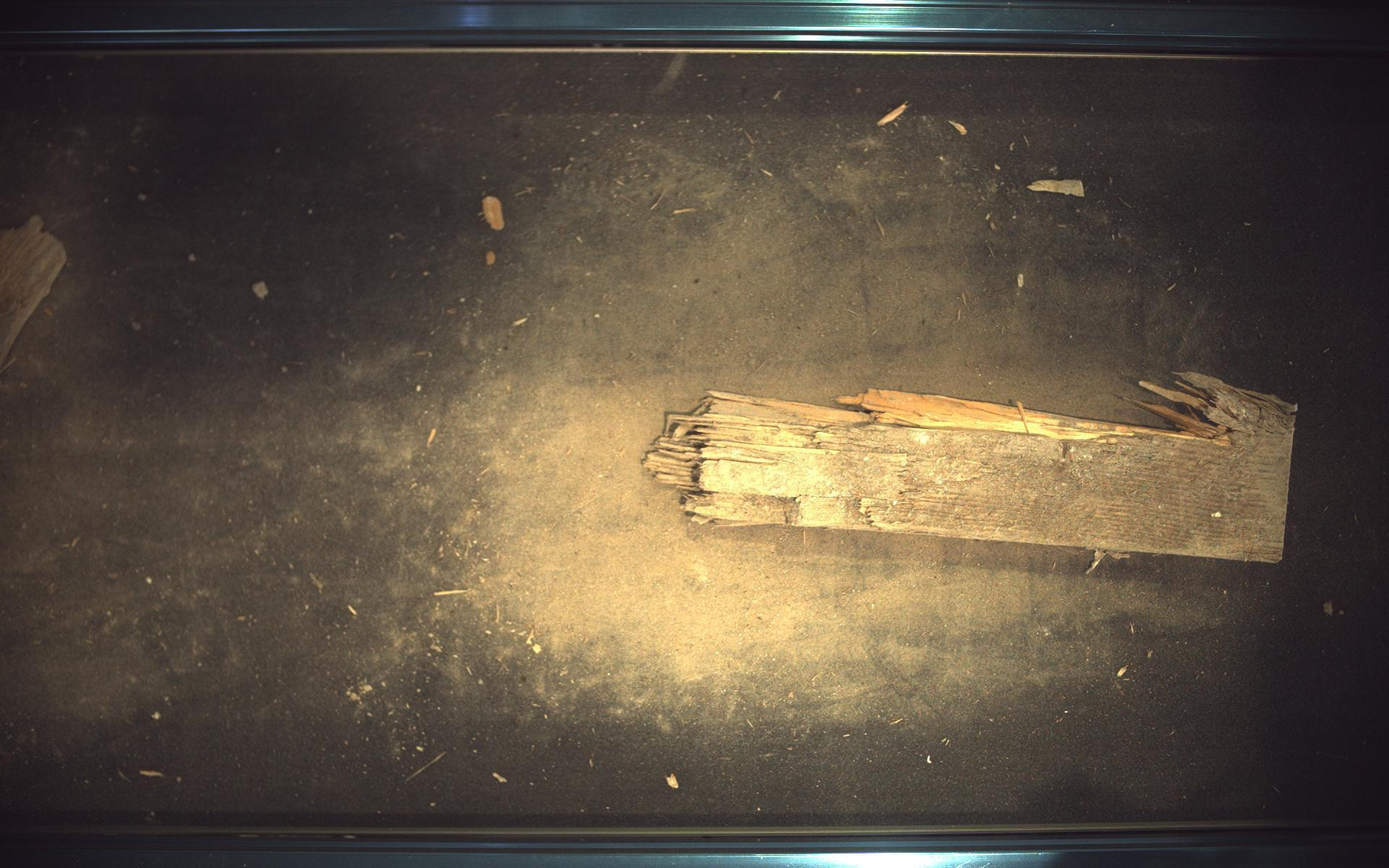wood: (645, 372, 1299, 563)
